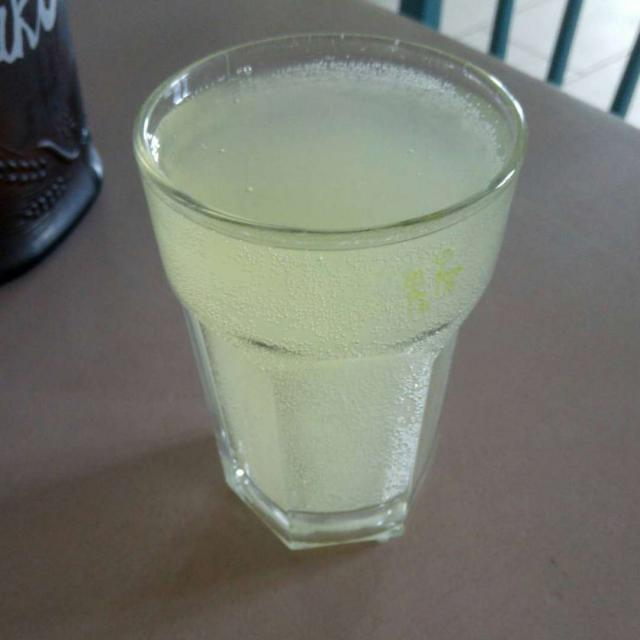kefir-drink: (143, 55, 509, 529)
